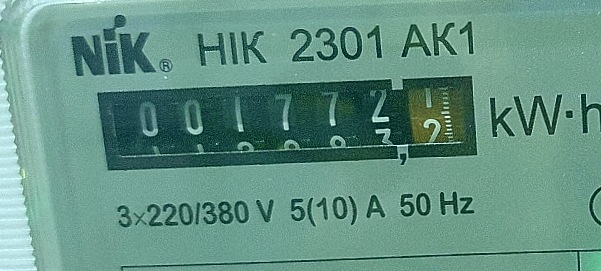0: (133, 97, 161, 137), (180, 95, 204, 135)
1: (229, 93, 246, 132), (421, 85, 434, 111)
2: (367, 87, 390, 124), (418, 115, 442, 144)
3: (372, 125, 394, 147)
7: (272, 90, 295, 132), (318, 88, 340, 127)
screen: (85, 64, 494, 181)
